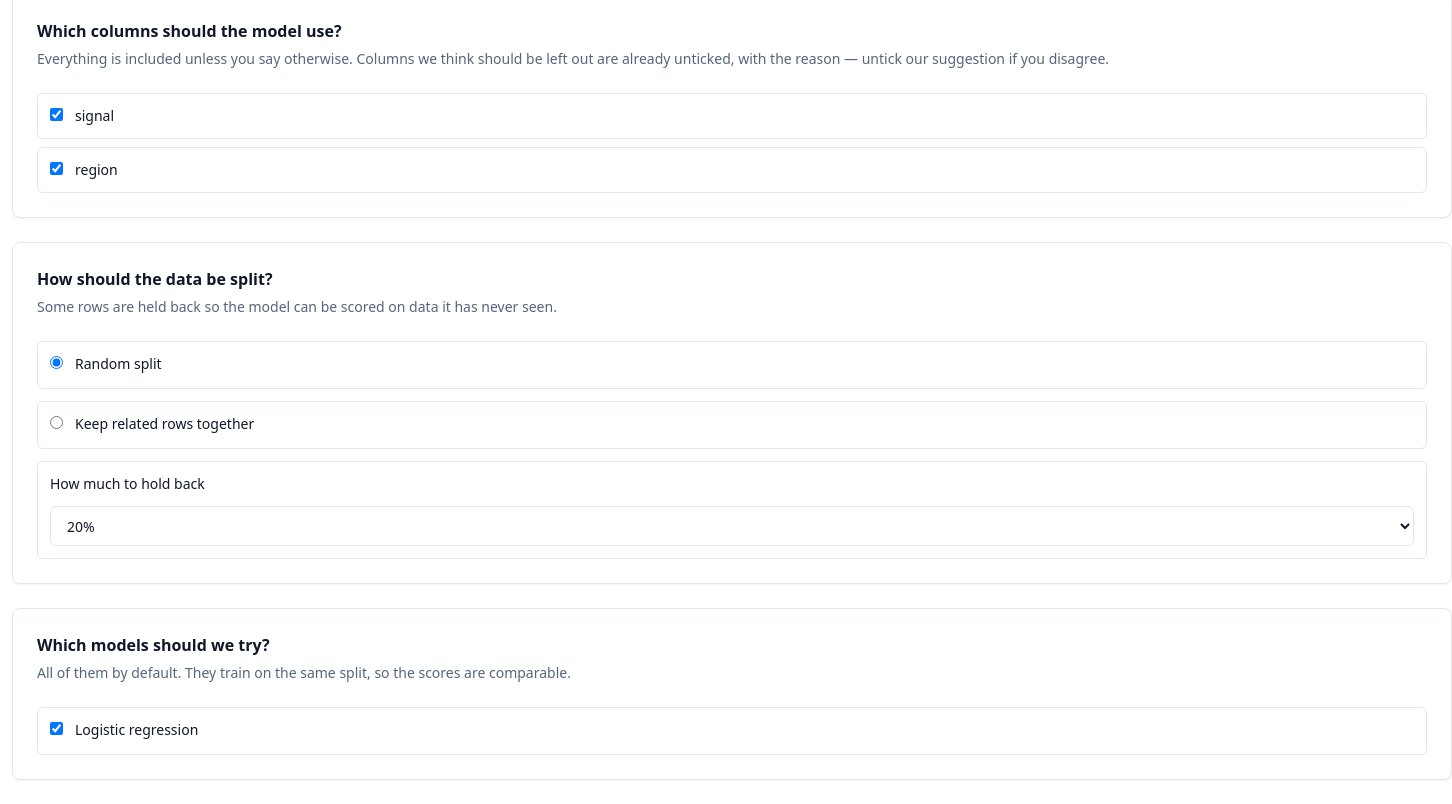
ModelPlanForm — a group key of several columns (#22) › will not train a grouped split with nothing to group on
Click the radio button labelled "Keep related rows together": (56, 422) [50,416,63,429]
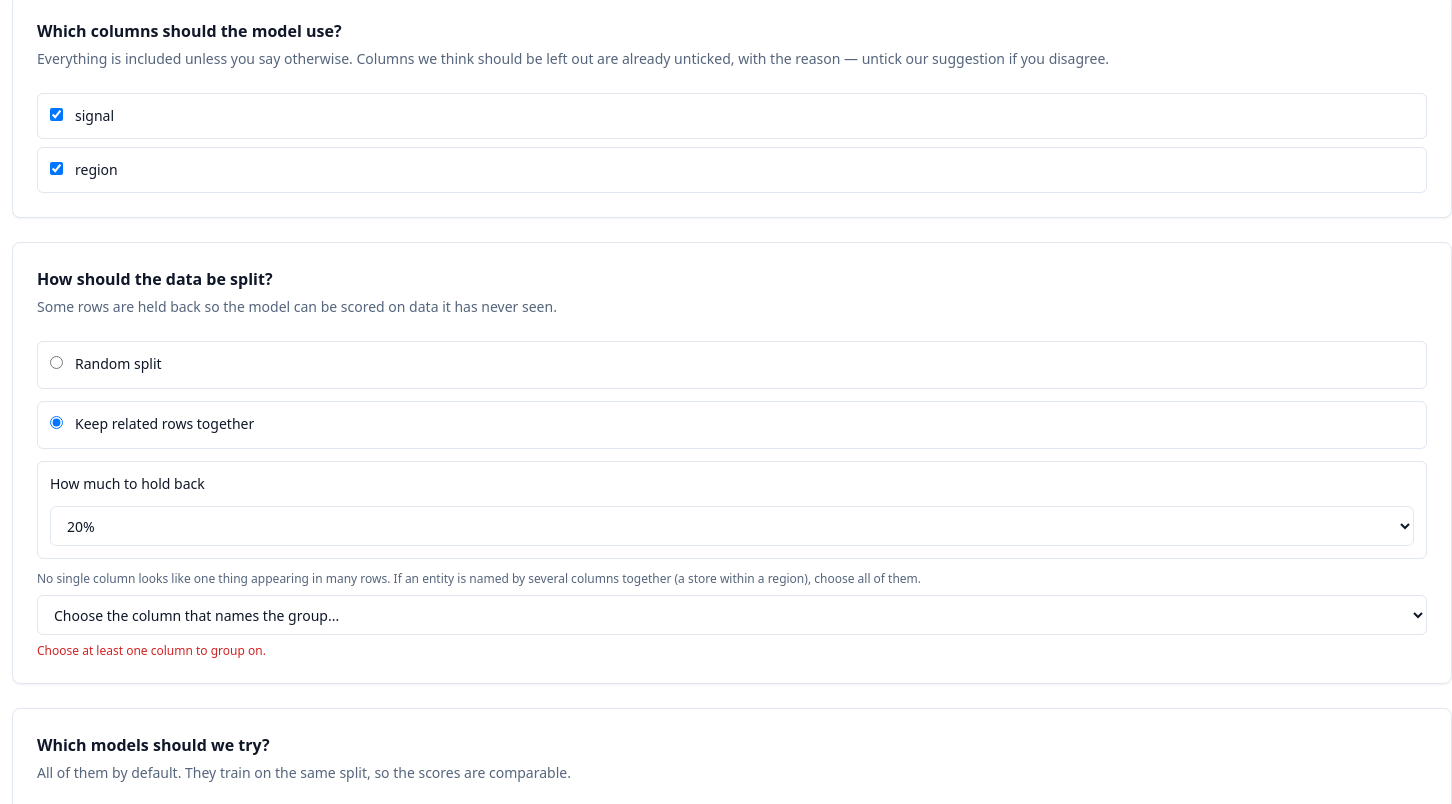
Expected: the text "Choose at least one column to group on." is shown, [37,642,266,659]
Select "store" in the dropdown named "Add a column to the group key": (732, 615) [37,595,1427,635]
(page scrolled)
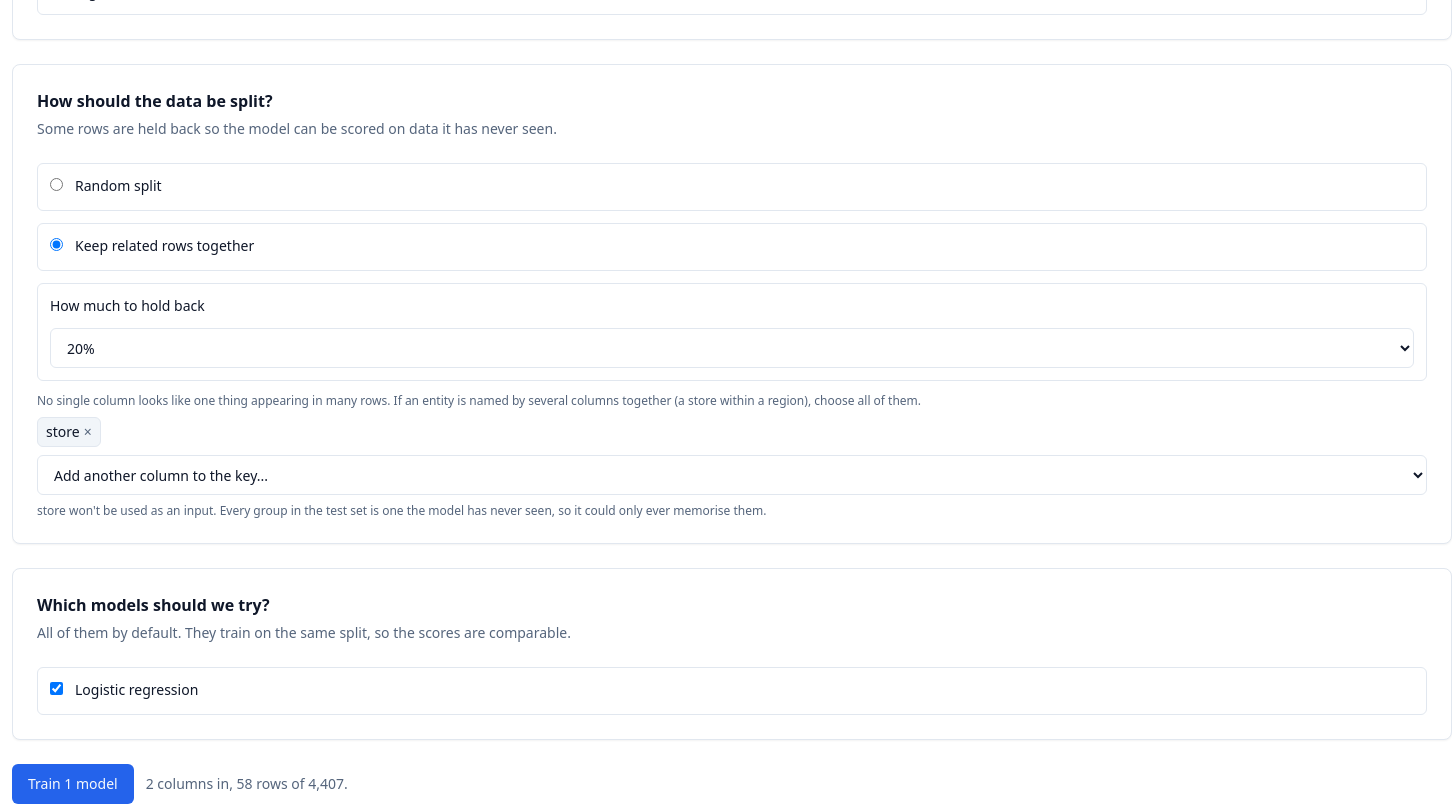
Expected: the button "Train 1 model" is enabled, [12,764,134,803]
